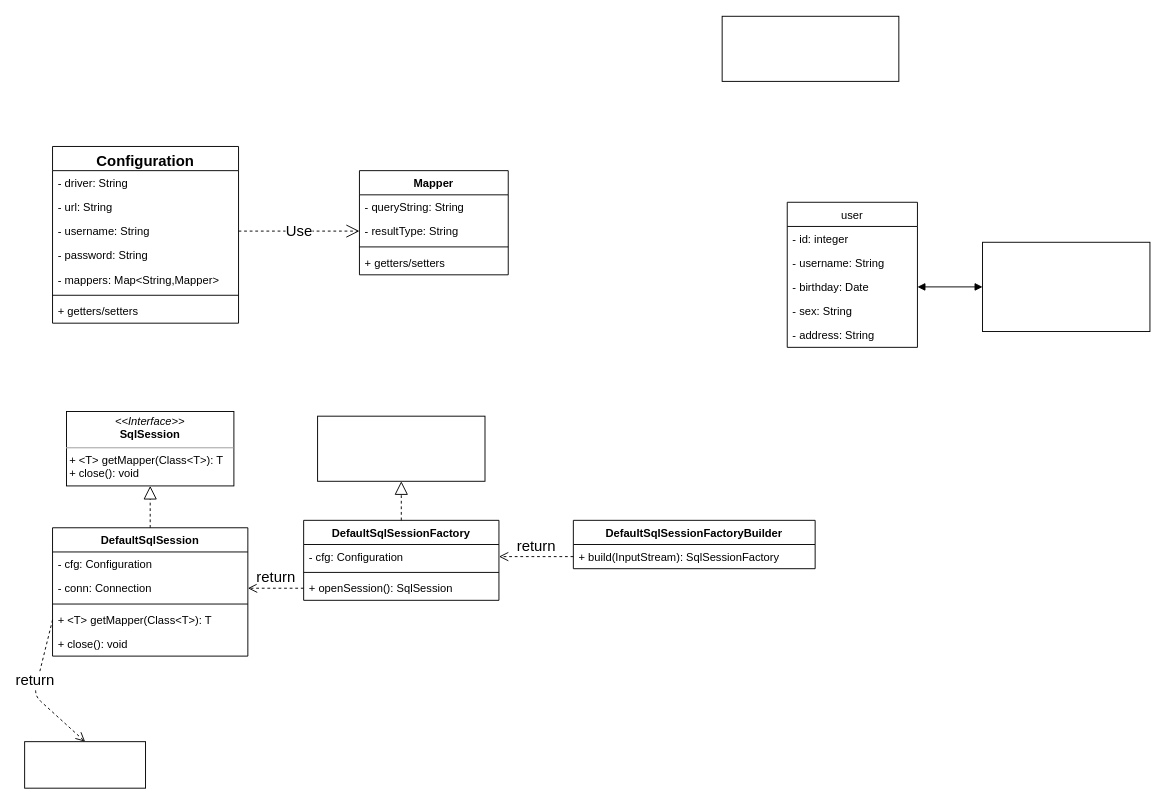
Image size: 1167x804. Some labels were removed from this diagram. The shapes that lost their labels are listed below. From the top down, each one's centre as x and y in pixels, then its label:
At [810,48]: "<<Interface>> UserDao + findAll(): List<user>".
At [1066,286]: "user id: int username: varchar birthday: date sex: varchar address: varchar".
At [401,448]: "<<Interface>> SqlSessionFactory + openSession(): SqlSession".
At [85,764]: "ProxyForDao dao接口的代理对象".
